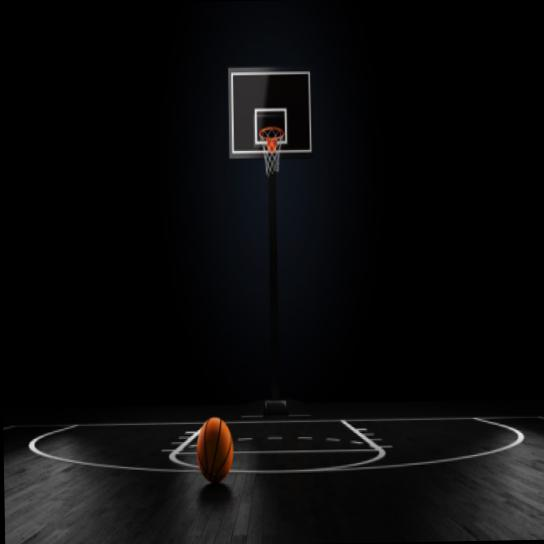basketball-hoop: (258, 125, 285, 176)
